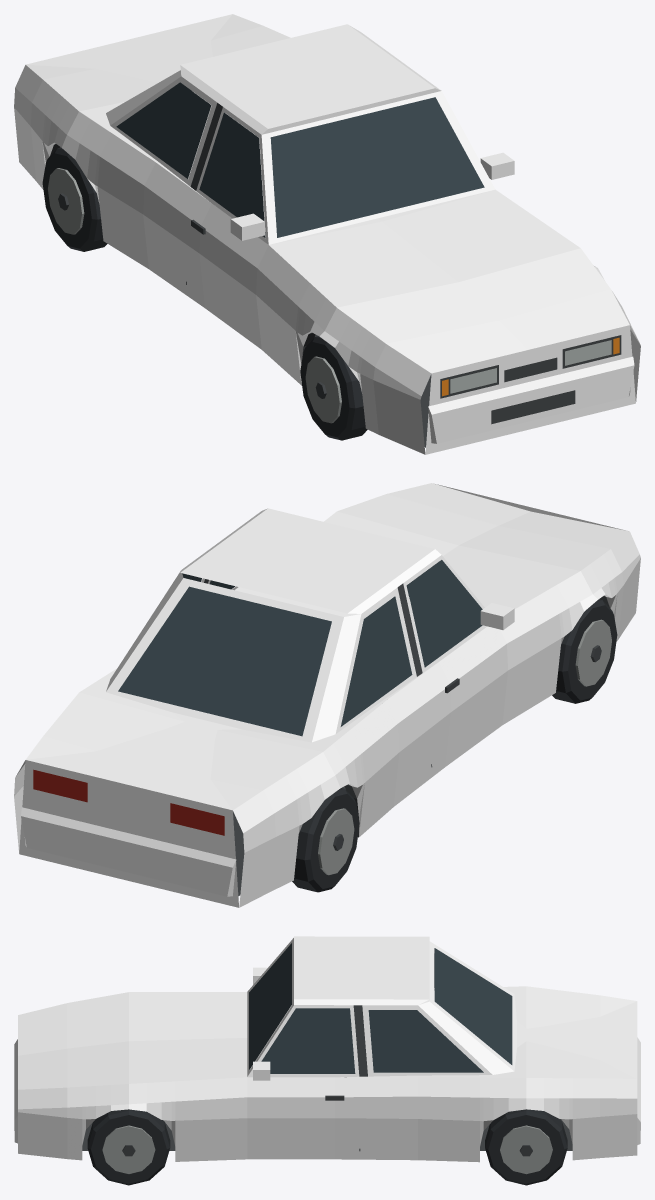
The model's file is whitlock_badlands.glb.
The picture shows the model from 3 angles, top to bottom: view 1: azimuth 30°, elevation 25°; view 2: azimuth 150°, elevation 25°; view 3: azimuth 270°, elevation 25°; orthographic projection. The views are drawn at different scales.
Visible parts, largest first — view 1: whitlock_badlands; view 2: whitlock_badlands; view 3: whitlock_badlands.
Boxes of the visible parts, bbox=[...] form: whitlock_badlands: bbox=[14, 14, 640, 454]; whitlock_badlands: bbox=[14, 483, 640, 907]; whitlock_badlands: bbox=[14, 936, 640, 1185].
Bounding box in the file's own units: 1.71 × 1.28 × 4.32.
8 materials, 1 textured.
